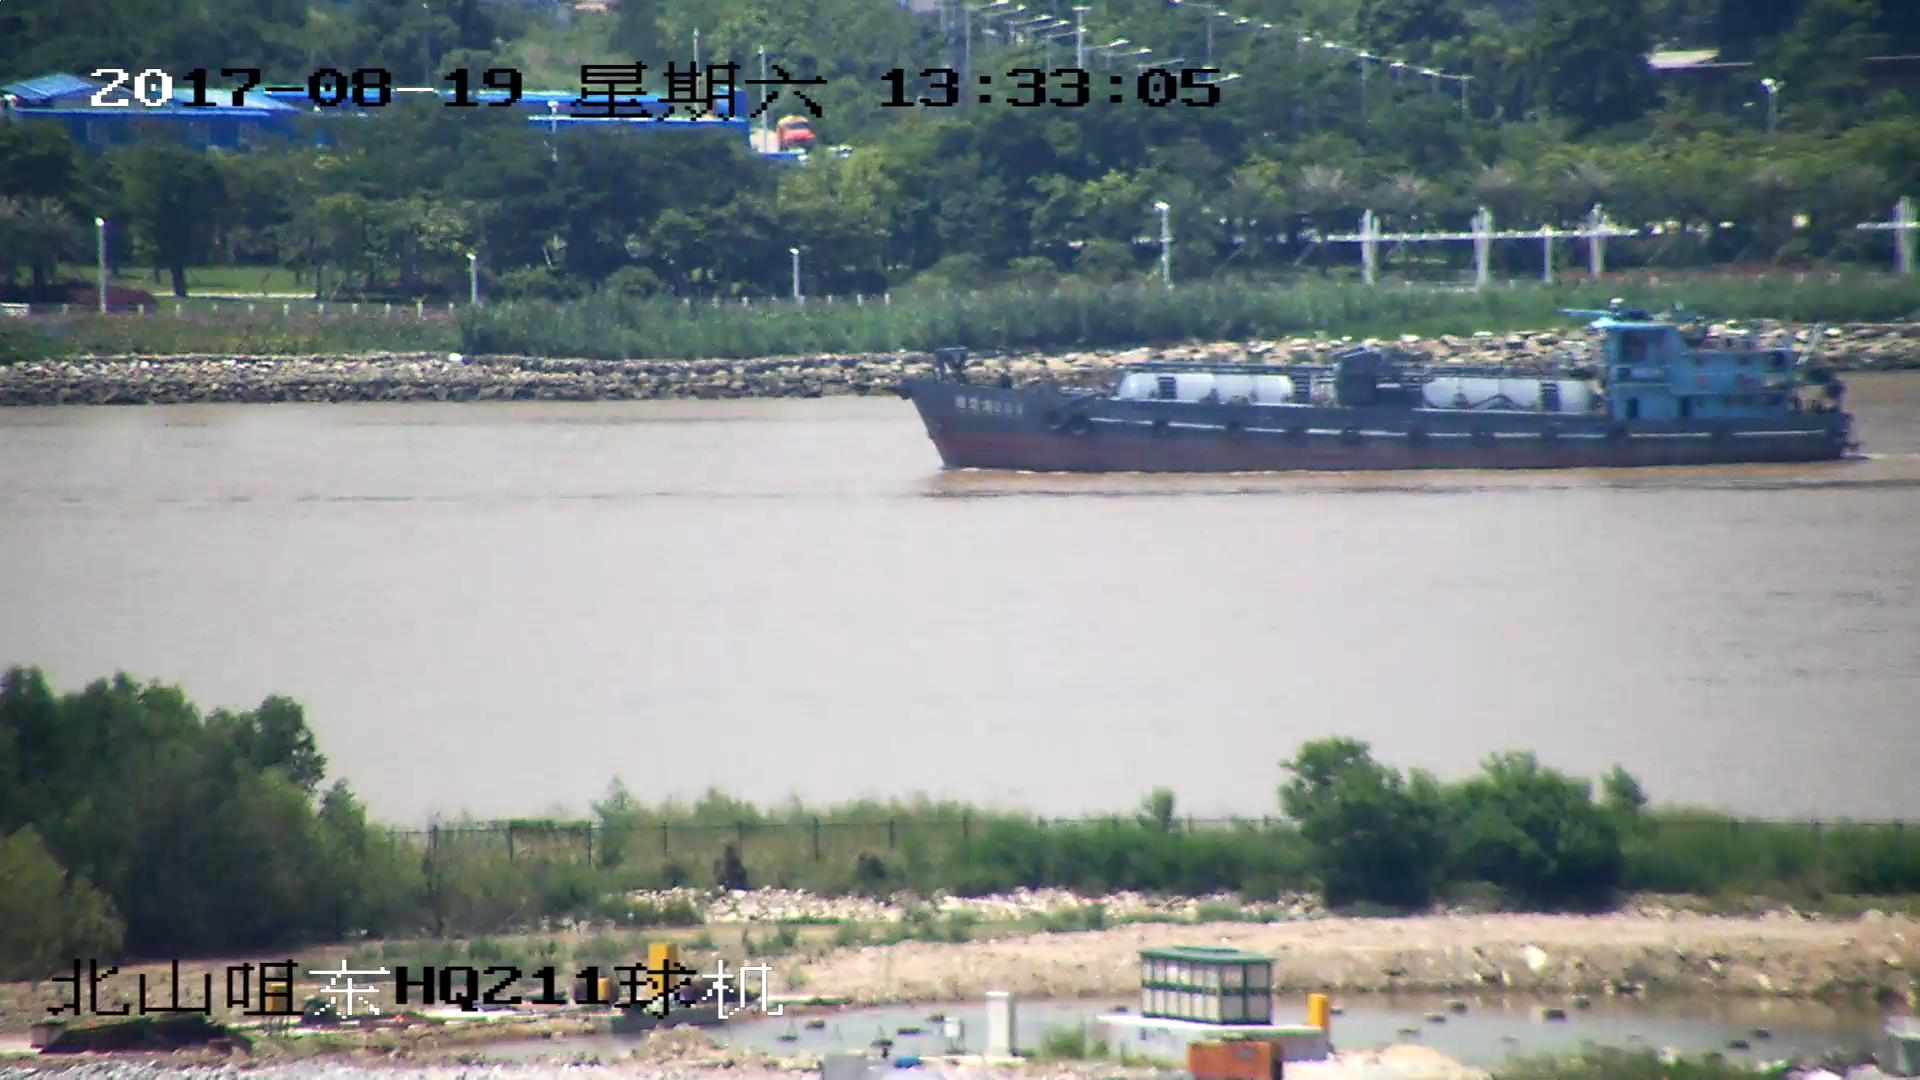bulk cargo carrier: (903, 317, 1861, 471)
